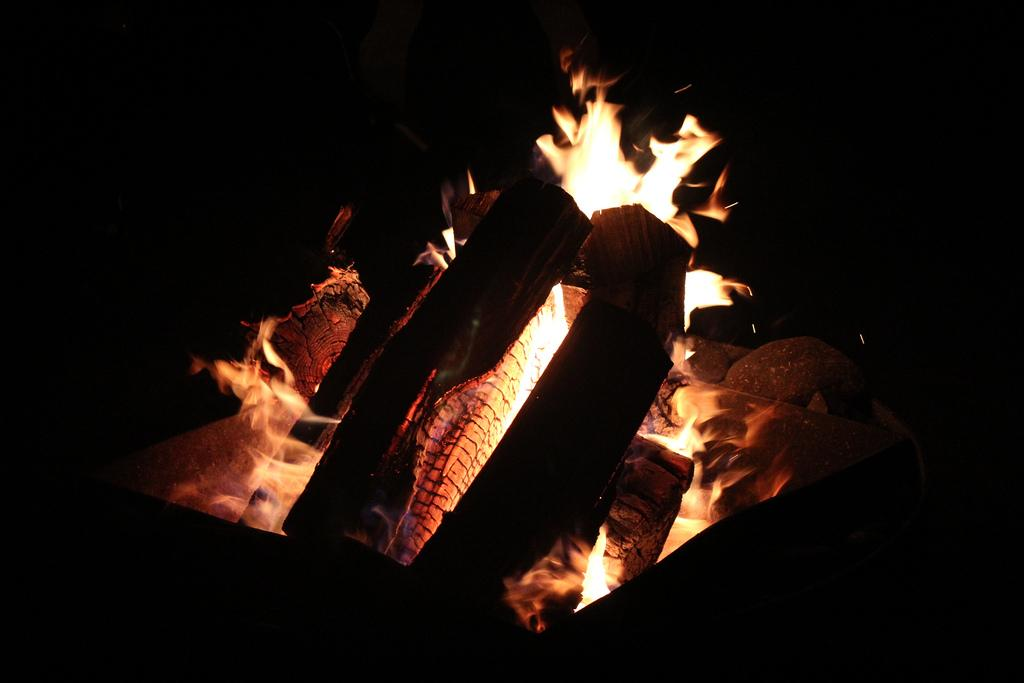fire: (548, 115, 665, 200), (658, 388, 732, 462), (523, 295, 568, 338), (688, 263, 713, 313), (677, 493, 723, 518)
